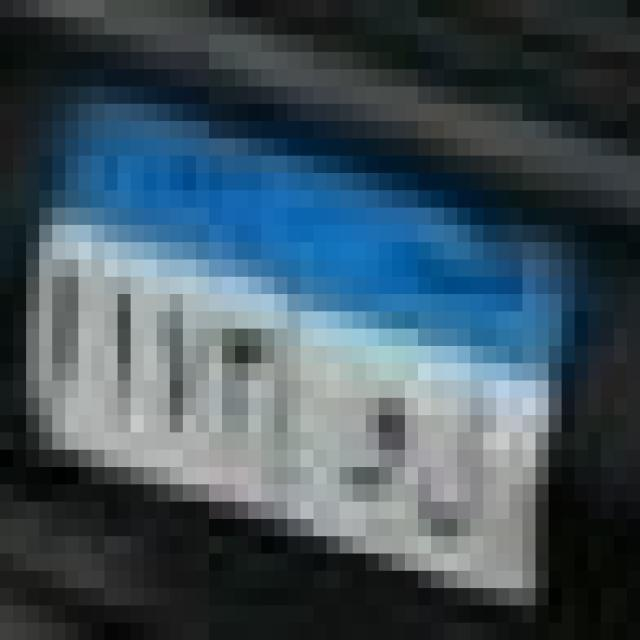1: (26, 258, 98, 457), (102, 266, 148, 415)
3: (222, 303, 298, 487)
7: (153, 280, 223, 474)
Wow: (320, 383, 431, 541)
Yeeh: (422, 386, 530, 553)
